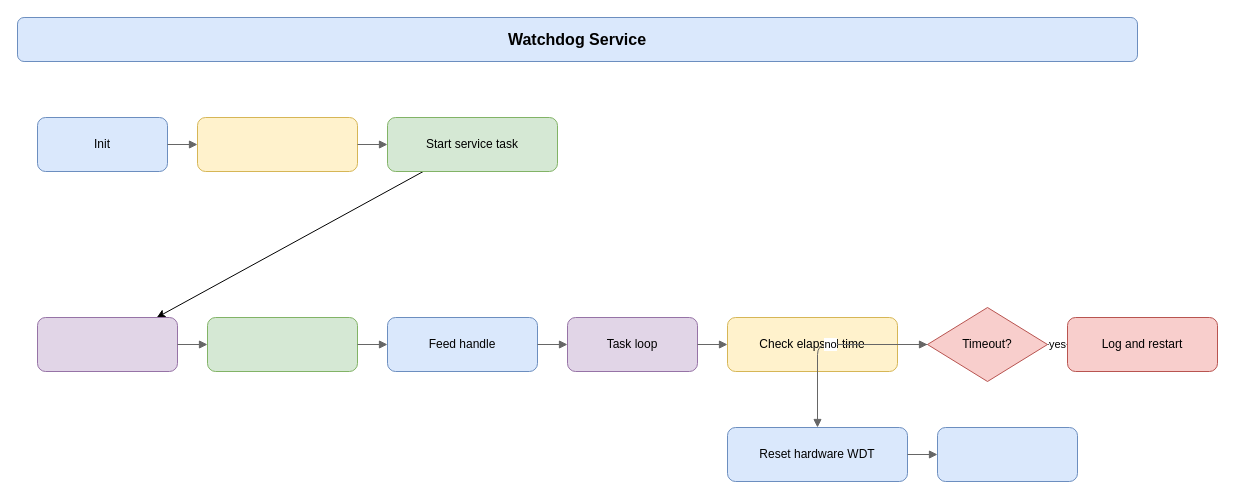
The diagram is 1235 pixels wide and 499 high, and some of its shapes have lost their labels. The shapes that lost their labels are listed below. From the top down, each one's box as (x1, y1, x2, y2) in pixels, then its label:
(196, 116, 358, 172): Configure WDT
(36, 316, 178, 372): Register task
(206, 316, 358, 372): Store handle
(936, 426, 1078, 482): Delay 200 ms
